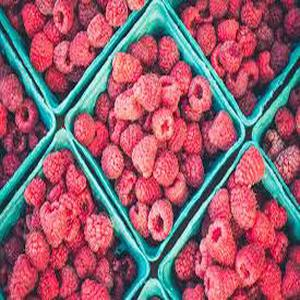raspb: (97, 33, 210, 228)
